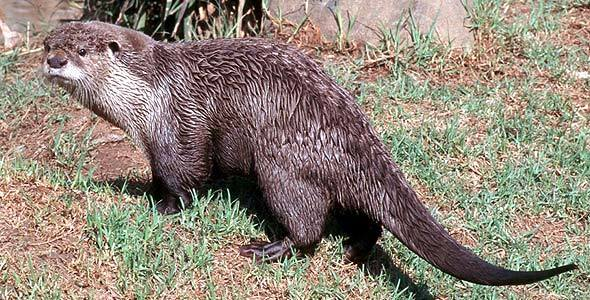otter: (33, 14, 571, 290)
